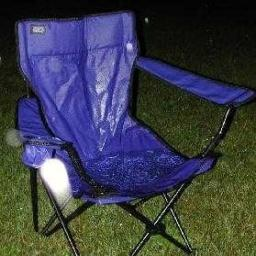Chair: (15, 21, 254, 256)
